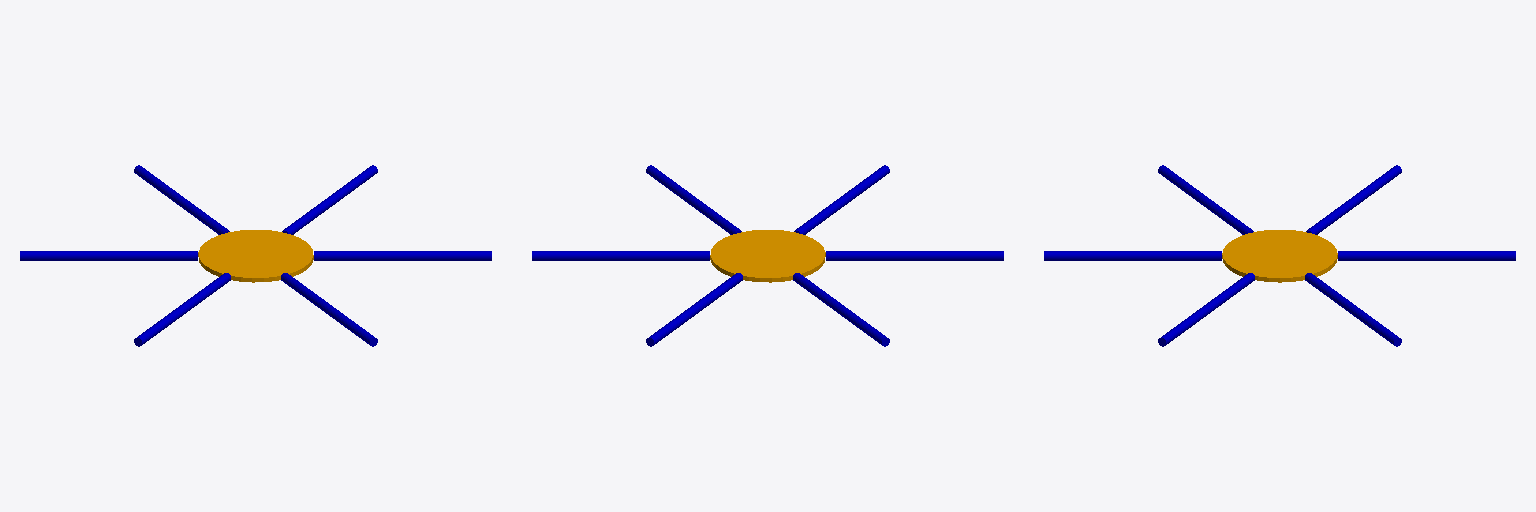
The robot description file, URDF, robot "robot":
<?xml version="1.0" ?>
<!-- =================================================================================== -->
<!-- |    This document was autogenerated by xacro from my_robot.xacro                 | -->
<!-- |    EDITING THIS FILE BY HAND IS NOT RECOMMENDED                                 | -->
<!-- =================================================================================== -->
<robot name="robot" xmlns:xacro="http://ros.org/wiki/xacro">
  <!--build base link-->
  <link name="base_link">
    <visual>
      <geometry>
        <cylinder length="10" radius="120"/>
      </geometry>
      <origin xyz="0 0 0"/>
    </visual>
  </link>
  <!-- xarco property-->
  <!--xarco leg-->
  <!--build robot-->
  <joint name="leg_coxa1" type="revolute">
    <parent link="base_link"/>
    <child link="coxa_link1"/>
    <limit effort="10000" lower="-1.5" upper="1.5" velocity="100"/>
    <axis xyz="0 0 1"/>
    <origin rpy="0 0 0" xyz="0 -120 0 "/>
  </joint>
  <link name="coxa_link1">
    <visual>
      <geometry>
        <cylinder length="50" radius="10"/>
        <!--mesh filename="package://robot_discription/mesh/t2.STL"/-->
      </geometry>
      <origin rpy="1.57079632679  0 0" xyz="0 -25 0 "/>
      <material name="blue">
        <color rgba="0 0 .8 1"/>
      </material>
    </visual>
  </link>
  <joint name="femur_joint1" type="revolute">
    <parent link="coxa_link1"/>
    <child link="femur_link1"/>
    <limit effort="1000.0" lower="-1.57" upper="1.57" velocity="0.5"/>
    <axis xyz="1 0 0"/>
    <origin xyz="0 -50 0"/>
  </joint>
  <link name="femur_link1">
    <visual>
      <geometry>
        <cylinder length="120" radius="10"/>
      </geometry>
      <origin rpy="1.57 0 0" xyz="0 -60 0"/>
      <material name="blue">
        <color rgba="0 0 .8 1"/>
      </material>
    </visual>
  </link>
  <joint name="tibia_joint1" type="revolute">
    <parent link="femur_link1"/>
    <child link="tibia_link1"/>
    <limit effort="1000.0" lower="-2" upper="2" velocity="0.5"/>
    <axis xyz="1 0 0"/>
    <origin xyz="0 -120 0"/>
  </joint>
  <link name="tibia_link1">
    <visual>
      <geometry>
        <cylinder length="200" radius="10"/>
      </geometry>
      <origin rpy="1.57 0 0" xyz="0 -100 0"/>
      <material name="blue">
        <color rgba="0 0 .8 1"/>
      </material>
    </visual>
  </link>
  <joint name="leg_coxa2" type="revolute">
    <parent link="base_link"/>
    <child link="coxa_link2"/>
    <limit effort="10000" lower="-1.5" upper="1.5" velocity="100"/>
    <axis xyz="0 0 1"/>
    <origin rpy="0 0 -1.0471975512" xyz="-103.92 -60 0 "/>
  </joint>
  <link name="coxa_link2">
    <visual>
      <geometry>
        <cylinder length="50" radius="10"/>
        <!--mesh filename="package://robot_discription/mesh/t2.STL"/-->
      </geometry>
      <origin rpy="1.57079632679  0 0" xyz="0 -25 0 "/>
      <material name="blue">
        <color rgba="0 0 .8 1"/>
      </material>
    </visual>
  </link>
  <joint name="femur_joint2" type="revolute">
    <parent link="coxa_link2"/>
    <child link="femur_link2"/>
    <limit effort="1000.0" lower="-1.57" upper="1.57" velocity="0.5"/>
    <axis xyz="1 0 0"/>
    <origin xyz="0 -50 0"/>
  </joint>
  <link name="femur_link2">
    <visual>
      <geometry>
        <cylinder length="120" radius="10"/>
      </geometry>
      <origin rpy="1.57 0 0" xyz="0 -60 0"/>
      <material name="blue">
        <color rgba="0 0 .8 1"/>
      </material>
    </visual>
  </link>
  <joint name="tibia_joint2" type="revolute">
    <parent link="femur_link2"/>
    <child link="tibia_link2"/>
    <limit effort="1000.0" lower="-2" upper="2" velocity="0.5"/>
    <axis xyz="1 0 0"/>
    <origin xyz="0 -120 0"/>
  </joint>
  <link name="tibia_link2">
    <visual>
      <geometry>
        <cylinder length="200" radius="10"/>
      </geometry>
      <origin rpy="1.57 0 0" xyz="0 -100 0"/>
      <material name="blue">
        <color rgba="0 0 .8 1"/>
      </material>
    </visual>
  </link>
  <joint name="leg_coxa3" type="revolute">
    <parent link="base_link"/>
    <child link="coxa_link3"/>
    <limit effort="10000" lower="-1.5" upper="1.5" velocity="100"/>
    <axis xyz="0 0 1"/>
    <origin rpy="0 0 -2.09439510239" xyz="-103.92 60 0 "/>
  </joint>
  <link name="coxa_link3">
    <visual>
      <geometry>
        <cylinder length="50" radius="10"/>
        <!--mesh filename="package://robot_discription/mesh/t2.STL"/-->
      </geometry>
      <origin rpy="1.57079632679  0 0" xyz="0 -25 0 "/>
      <material name="blue">
        <color rgba="0 0 .8 1"/>
      </material>
    </visual>
  </link>
  <joint name="femur_joint3" type="revolute">
    <parent link="coxa_link3"/>
    <child link="femur_link3"/>
    <limit effort="1000.0" lower="-1.57" upper="1.57" velocity="0.5"/>
    <axis xyz="1 0 0"/>
    <origin xyz="0 -50 0"/>
  </joint>
  <link name="femur_link3">
    <visual>
      <geometry>
        <cylinder length="120" radius="10"/>
      </geometry>
      <origin rpy="1.57 0 0" xyz="0 -60 0"/>
      <material name="blue">
        <color rgba="0 0 .8 1"/>
      </material>
    </visual>
  </link>
  <joint name="tibia_joint3" type="revolute">
    <parent link="femur_link3"/>
    <child link="tibia_link3"/>
    <limit effort="1000.0" lower="-2" upper="2" velocity="0.5"/>
    <axis xyz="1 0 0"/>
    <origin xyz="0 -120 0"/>
  </joint>
  <link name="tibia_link3">
    <visual>
      <geometry>
        <cylinder length="200" radius="10"/>
      </geometry>
      <origin rpy="1.57 0 0" xyz="0 -100 0"/>
      <material name="blue">
        <color rgba="0 0 .8 1"/>
      </material>
    </visual>
  </link>
  <joint name="leg_coxa4" type="revolute">
    <parent link="base_link"/>
    <child link="coxa_link4"/>
    <limit effort="10000" lower="-1.5" upper="1.5" velocity="100"/>
    <axis xyz="0 0 1"/>
    <origin rpy="0 0 3.14159265359" xyz="0 120 0 "/>
  </joint>
  <link name="coxa_link4">
    <visual>
      <geometry>
        <cylinder length="50" radius="10"/>
        <!--mesh filename="package://robot_discription/mesh/t2.STL"/-->
      </geometry>
      <origin rpy="1.57079632679  0 0" xyz="0 -25 0 "/>
      <material name="blue">
        <color rgba="0 0 .8 1"/>
      </material>
    </visual>
  </link>
  <joint name="femur_joint4" type="revolute">
    <parent link="coxa_link4"/>
    <child link="femur_link4"/>
    <limit effort="1000.0" lower="-1.57" upper="1.57" velocity="0.5"/>
    <axis xyz="1 0 0"/>
    <origin xyz="0 -50 0"/>
  </joint>
  <link name="femur_link4">
    <visual>
      <geometry>
        <cylinder length="120" radius="10"/>
      </geometry>
      <origin rpy="1.57 0 0" xyz="0 -60 0"/>
      <material name="blue">
        <color rgba="0 0 .8 1"/>
      </material>
    </visual>
  </link>
  <joint name="tibia_joint4" type="revolute">
    <parent link="femur_link4"/>
    <child link="tibia_link4"/>
    <limit effort="1000.0" lower="-2" upper="2" velocity="0.5"/>
    <axis xyz="1 0 0"/>
    <origin xyz="0 -120 0"/>
  </joint>
  <link name="tibia_link4">
    <visual>
      <geometry>
        <cylinder length="200" radius="10"/>
      </geometry>
      <origin rpy="1.57 0 0" xyz="0 -100 0"/>
      <material name="blue">
        <color rgba="0 0 .8 1"/>
      </material>
    </visual>
  </link>
  <joint name="leg_coxa5" type="revolute">
    <parent link="base_link"/>
    <child link="coxa_link5"/>
    <limit effort="10000" lower="-1.5" upper="1.5" velocity="100"/>
    <axis xyz="0 0 1"/>
    <origin rpy="0 0 2.09439510239" xyz="103.92 60 0 "/>
  </joint>
  <link name="coxa_link5">
    <visual>
      <geometry>
        <cylinder length="50" radius="10"/>
        <!--mesh filename="package://robot_discription/mesh/t2.STL"/-->
      </geometry>
      <origin rpy="1.57079632679  0 0" xyz="0 -25 0 "/>
      <material name="blue">
        <color rgba="0 0 .8 1"/>
      </material>
    </visual>
  </link>
  <joint name="femur_joint5" type="revolute">
    <parent link="coxa_link5"/>
    <child link="femur_link5"/>
    <limit effort="1000.0" lower="-1.57" upper="1.57" velocity="0.5"/>
    <axis xyz="1 0 0"/>
    <origin xyz="0 -50 0"/>
  </joint>
  <link name="femur_link5">
    <visual>
      <geometry>
        <cylinder length="120" radius="10"/>
      </geometry>
      <origin rpy="1.57 0 0" xyz="0 -60 0"/>
      <material name="blue">
        <color rgba="0 0 .8 1"/>
      </material>
    </visual>
  </link>
  <joint name="tibia_joint5" type="revolute">
    <parent link="femur_link5"/>
    <child link="tibia_link5"/>
    <limit effort="1000.0" lower="-2" upper="2" velocity="0.5"/>
    <axis xyz="1 0 0"/>
    <origin xyz="0 -120 0"/>
  </joint>
  <link name="tibia_link5">
    <visual>
      <geometry>
        <cylinder length="200" radius="10"/>
      </geometry>
      <origin rpy="1.57 0 0" xyz="0 -100 0"/>
      <material name="blue">
        <color rgba="0 0 .8 1"/>
      </material>
    </visual>
  </link>
  <joint name="leg_coxa6" type="revolute">
    <parent link="base_link"/>
    <child link="coxa_link6"/>
    <limit effort="10000" lower="-1.5" upper="1.5" velocity="100"/>
    <axis xyz="0 0 1"/>
    <origin rpy="0 0 1.0471975512" xyz="103.92 -60 0 "/>
  </joint>
  <link name="coxa_link6">
    <visual>
      <geometry>
        <cylinder length="50" radius="10"/>
        <!--mesh filename="package://robot_discription/mesh/t2.STL"/-->
      </geometry>
      <origin rpy="1.57079632679  0 0" xyz="0 -25 0 "/>
      <material name="blue">
        <color rgba="0 0 .8 1"/>
      </material>
    </visual>
  </link>
  <joint name="femur_joint6" type="revolute">
    <parent link="coxa_link6"/>
    <child link="femur_link6"/>
    <limit effort="1000.0" lower="-1.57" upper="1.57" velocity="0.5"/>
    <axis xyz="1 0 0"/>
    <origin xyz="0 -50 0"/>
  </joint>
  <link name="femur_link6">
    <visual>
      <geometry>
        <cylinder length="120" radius="10"/>
      </geometry>
      <origin rpy="1.57 0 0" xyz="0 -60 0"/>
      <material name="blue">
        <color rgba="0 0 .8 1"/>
      </material>
    </visual>
  </link>
  <joint name="tibia_joint6" type="revolute">
    <parent link="femur_link6"/>
    <child link="tibia_link6"/>
    <limit effort="1000.0" lower="-2" upper="2" velocity="0.5"/>
    <axis xyz="1 0 0"/>
    <origin xyz="0 -120 0"/>
  </joint>
  <link name="tibia_link6">
    <visual>
      <geometry>
        <cylinder length="200" radius="10"/>
      </geometry>
      <origin rpy="1.57 0 0" xyz="0 -100 0"/>
      <material name="blue">
        <color rgba="0 0 .8 1"/>
      </material>
    </visual>
  </link>
</robot>

--- What the picture shows (computed from the rendered views, not written in the file) ---
3 views of the same robot in one strip: view 1: azimuth 30°, elevation 25°; view 2: azimuth 150°, elevation 25°; view 3: azimuth 270°, elevation 25° (orthographic).
Robot: robot — 19 links, 18 joints (18 revolute); root link base_link; default pose: all joints at 0.
Visible links, largest first — view 1: base_link, tibia_link3, tibia_link6, tibia_link1, tibia_link2, tibia_link4, tibia_link5, femur_link3, femur_link6; view 2: base_link, tibia_link2, tibia_link5, tibia_link3, tibia_link4, tibia_link1, tibia_link6, femur_link2, femur_link5; view 3: base_link, tibia_link1, tibia_link4, tibia_link5, tibia_link6, tibia_link2, tibia_link3, femur_link1, femur_link4.
Boxes of the visible links, x1,y1,x2,y2 form: base_link: [198, 230, 313, 282]; tibia_link3: [20, 251, 116, 260]; tibia_link6: [395, 251, 491, 260]; tibia_link1: [322, 303, 377, 346]; tibia_link2: [134, 303, 189, 346]; tibia_link4: [134, 165, 187, 206]; tibia_link5: [324, 165, 377, 206]; femur_link3: [117, 251, 173, 260]; femur_link6: [338, 251, 394, 260]; base_link: [710, 230, 825, 282]; tibia_link2: [907, 251, 1003, 260]; tibia_link5: [532, 251, 628, 260]; tibia_link3: [834, 303, 889, 346]; tibia_link4: [646, 303, 701, 346]; tibia_link1: [836, 165, 889, 206]; tibia_link6: [646, 165, 699, 206]; femur_link2: [850, 251, 906, 260]; femur_link5: [629, 251, 685, 260]; base_link: [1222, 230, 1337, 282]; tibia_link1: [1044, 251, 1140, 260]; tibia_link4: [1419, 251, 1515, 260]; tibia_link5: [1346, 303, 1401, 346]; tibia_link6: [1158, 303, 1213, 346]; tibia_link2: [1158, 165, 1211, 206]; tibia_link3: [1348, 165, 1401, 206]; femur_link1: [1141, 251, 1197, 260]; femur_link4: [1362, 251, 1418, 260].
Size in the robot's own frame: 859 by 980 by 20.16 metres.
Geometry: primitives only (box / cylinder / sphere), no mesh files.